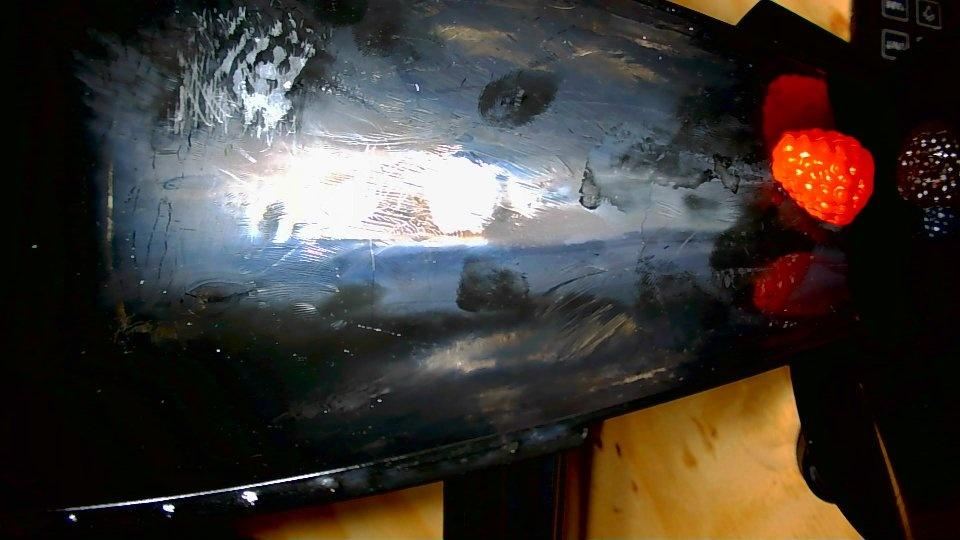berry: (771, 129, 872, 224)
